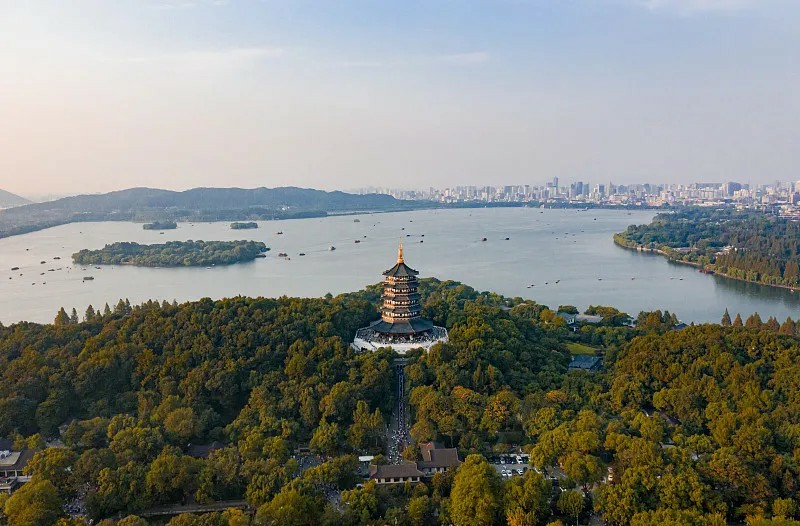Leifeng: (368, 236, 434, 342)
